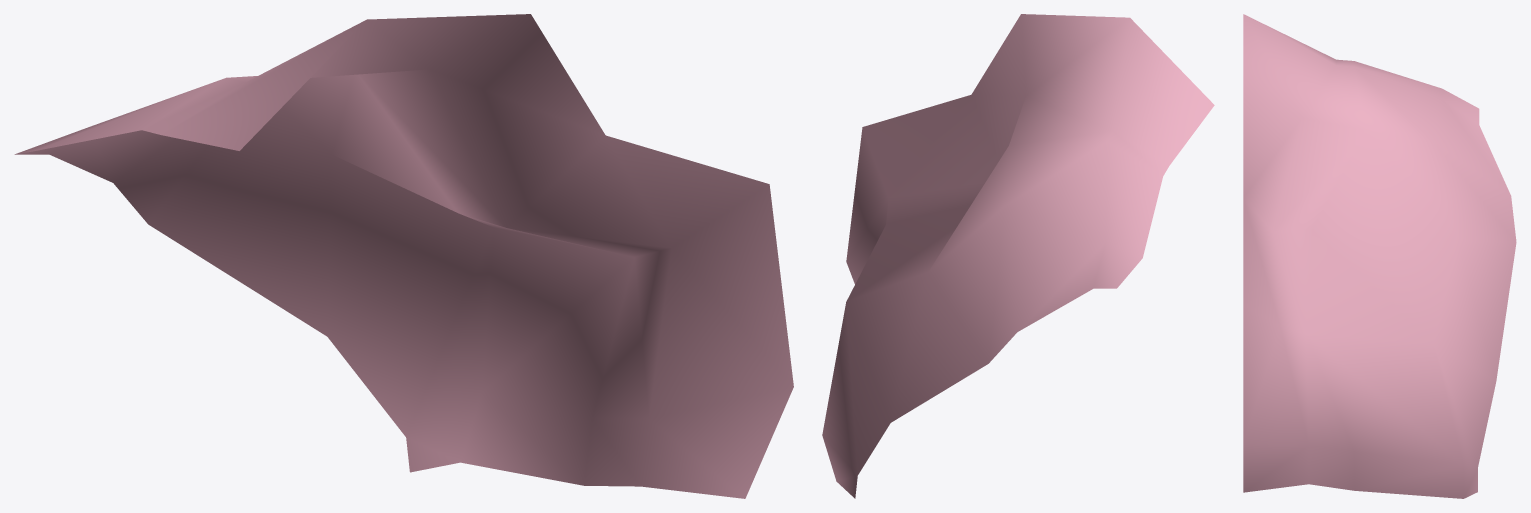
3 views of the same model, side by side, from view 1: azimuth 30°, elevation 25°; view 2: azimuth 150°, elevation 25°; view 3: azimuth 270°, elevation 25° (orthographic). The views are drawn at different scales.
Visible parts, largest first — view 1: Object35; view 2: Object35; view 3: Object35.
Part boxes in pixels (box(x1,y1,x2,y2)): Object35: box(14, 14, 793, 498); Object35: box(822, 14, 1214, 498); Object35: box(1243, 14, 1516, 498).
Size of the model in its own units: 88038 by 89849 by 54537.
